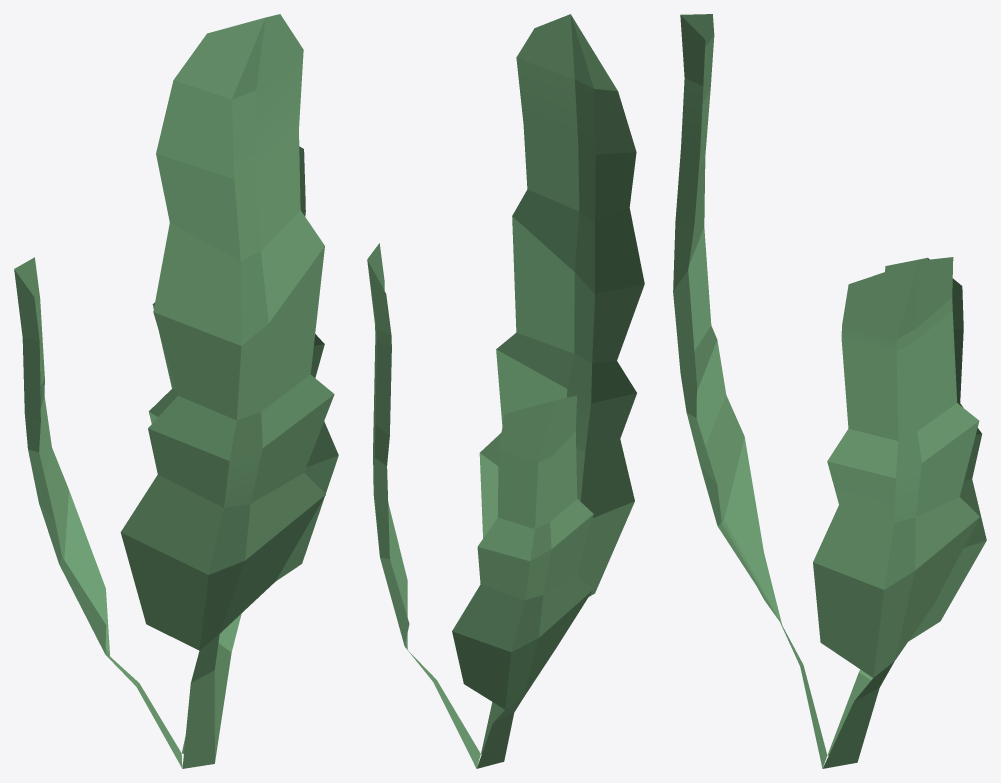
File: grass-sea.glb
3 views of the same model, side by side, from view 1: azimuth 30°, elevation 25°; view 2: azimuth 150°, elevation 25°; view 3: azimuth 270°, elevation 25° (orthographic). The views are drawn at different scales.
Visible parts, largest first — view 1: grass_sea; view 2: grass_sea; view 3: grass_sea.
Boxes of the visible parts, <box> form: grass_sea: <box>14,14,338,768</box>; grass_sea: <box>367,14,644,768</box>; grass_sea: <box>673,14,986,768</box>.
Size of the model in its own units: 70.68 by 201 by 76.95.
